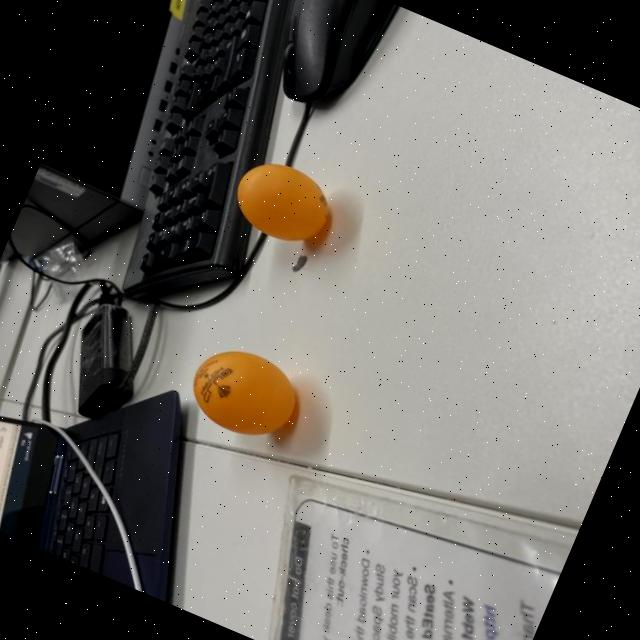ping-pong-ball: (171, 325, 310, 449), (218, 144, 348, 259)
